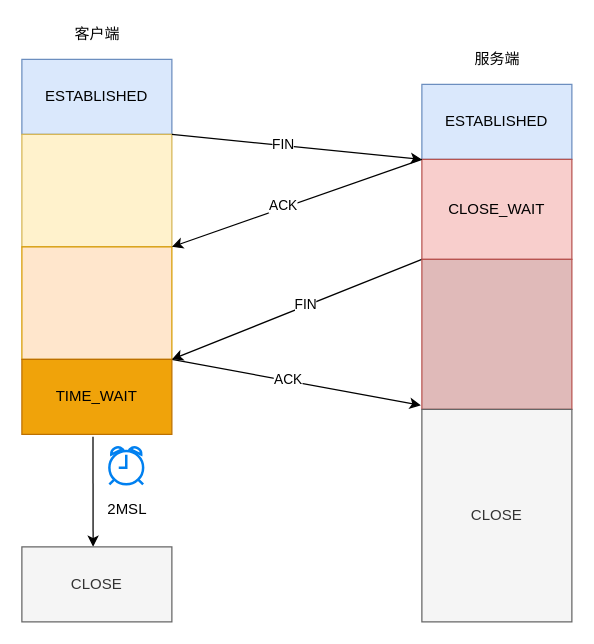
The diagram is 594 pixels wide and 644 high, and some of its shapes have lost their labels. The shapes that lost their labels are listed below. From the top down, each one's centre as x and y in pixels, then its label:
At (x=96, y=190): "FIN_WAIT1".
At (x=96, y=302): "FIN_WAIT2".
At (x=496, y=333): "FIN_WAIT".
